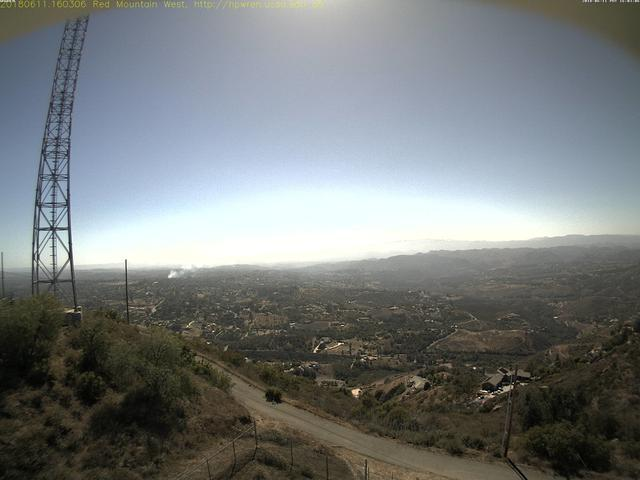smoke: (162, 256, 215, 283)
